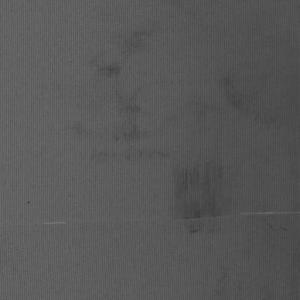Stain: (166, 157, 300, 300), (58, 23, 174, 165), (183, 69, 270, 127)
